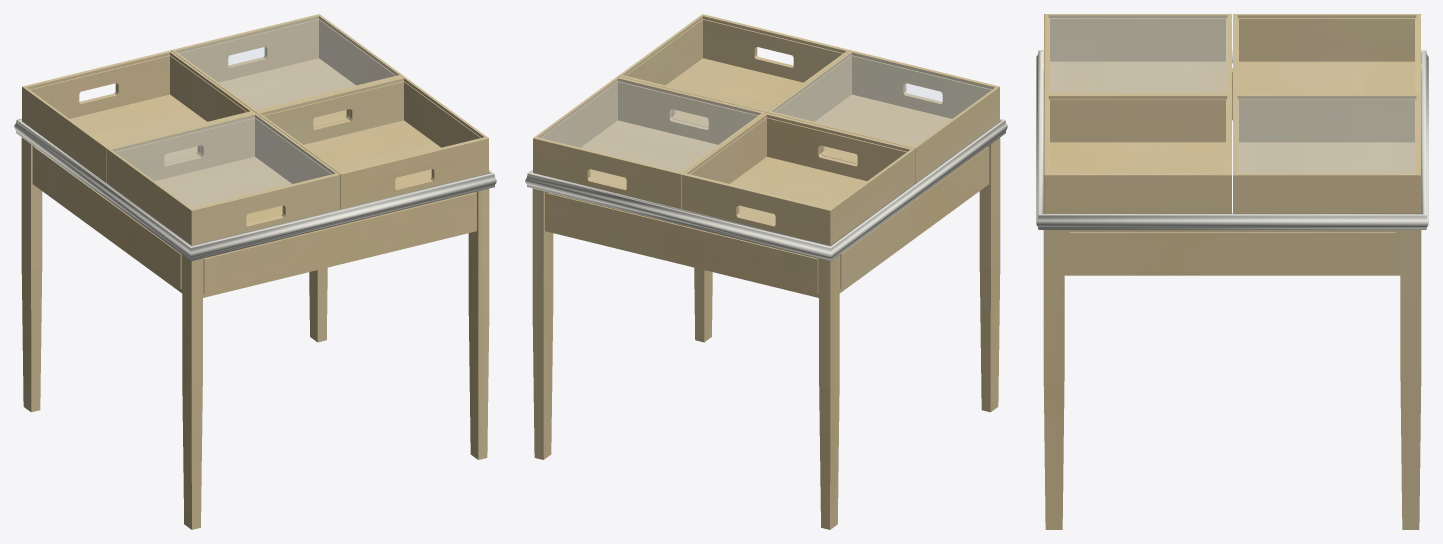
Rendered from sh-scopia-living-room-table.glb.
3 views of the same model, side by side, from view 1: azimuth 30°, elevation 25°; view 2: azimuth 150°, elevation 25°; view 3: azimuth 270°, elevation 25° (orthographic). The views are drawn at different scales.
Visible parts, largest first — view 1: box_table4_Plane.014, glass_plane4_Plane.008, Living_r_table_mod_Cube.001; view 2: box_table4_Plane.014, glass_plane4_Plane.008, Living_r_table_mod_Cube.001; view 3: box_table4_Plane.014, glass_plane4_Plane.008, Living_r_table_mod_Cube.001.
Part boxes in pixels (x1,y1,x2,y2): box_table4_Plane.014: (21,14,489,529); glass_plane4_Plane.008: (113,16,398,207); Living_r_table_mod_Cube.001: (14,118,496,260); box_table4_Plane.014: (532,14,1000,529); glass_plane4_Plane.008: (539,53,994,171); Living_r_table_mod_Cube.001: (525,118,1007,260); box_table4_Plane.014: (1043,14,1421,529); glass_plane4_Plane.008: (1049,15,1415,173); Living_r_table_mod_Cube.001: (1036,50,1428,229).
Bounding box in the file's own units: 1 × 1 × 1.
3 materials, 1 textured.
